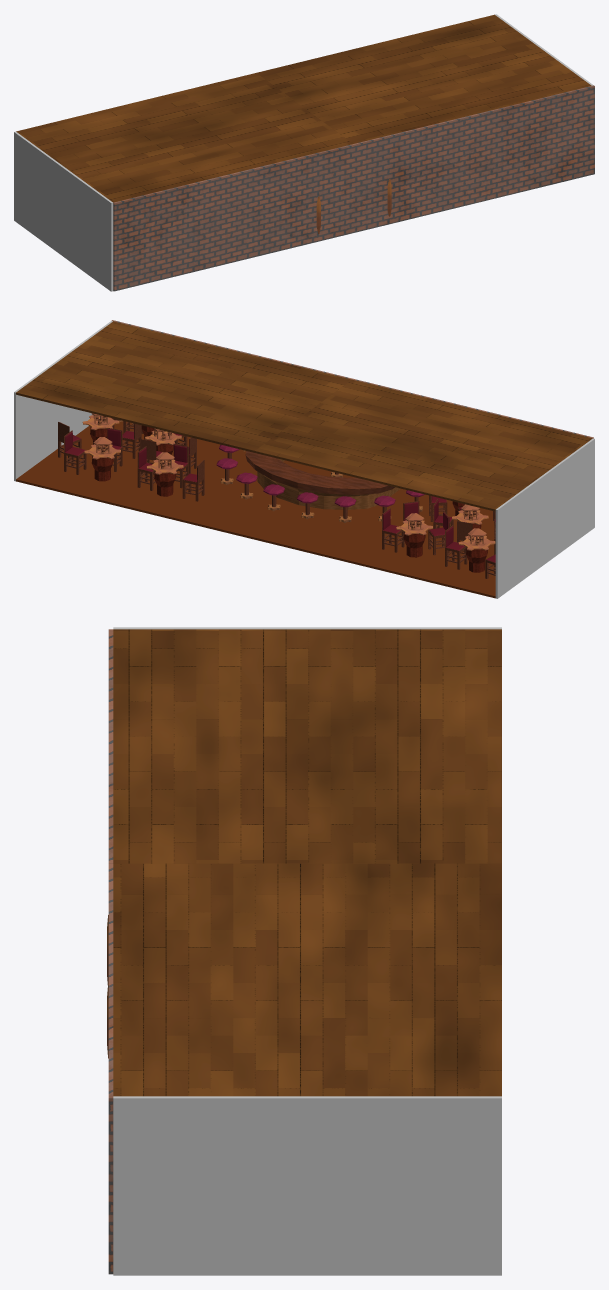
File: Enterance 1.fbx
3 views of the same model, one above another, from view 1: azimuth 30°, elevation 25°; view 2: azimuth 150°, elevation 25°; view 3: azimuth 270°, elevation 25° (orthographic). The views are drawn at different scales.
Visible parts, largest first — view 1: Cube.001, BackWall, SideWall2; view 2: Cube.001, Ground, SideWall2, Counter, SideWall1, BackWall, Chair.016, Chair.009, Chair.013, Chair.010, Chair.015, Chair.014 (+7 smaller); view 3: Cube.001, SideWall1, BackWall, SideWall2.
Boxes of the visible parts, x1,y1,x2,y2 form: Cube.001: (16, 14, 591, 202); BackWall: (113, 85, 594, 291); SideWall2: (14, 131, 113, 291); Cube.001: (16, 321, 592, 511); Ground: (16, 421, 495, 598); SideWall2: (495, 438, 594, 598); Counter: (245, 451, 400, 509); SideWall1: (14, 321, 112, 481); BackWall: (111, 320, 593, 438); Chair.016: (64, 430, 86, 474); Chair.009: (445, 525, 467, 569); Chair.013: (182, 460, 204, 501); Chair.010: (382, 508, 404, 552); Chair.015: (137, 446, 155, 490); Chair.014: (173, 444, 188, 488); Cube.001: (113, 629, 501, 1096); SideWall1: (113, 1096, 501, 1275); BackWall: (108, 629, 113, 1274); SideWall2: (113, 627, 501, 629).
Size of the model in its own units: 1551 by 272 by 550.
